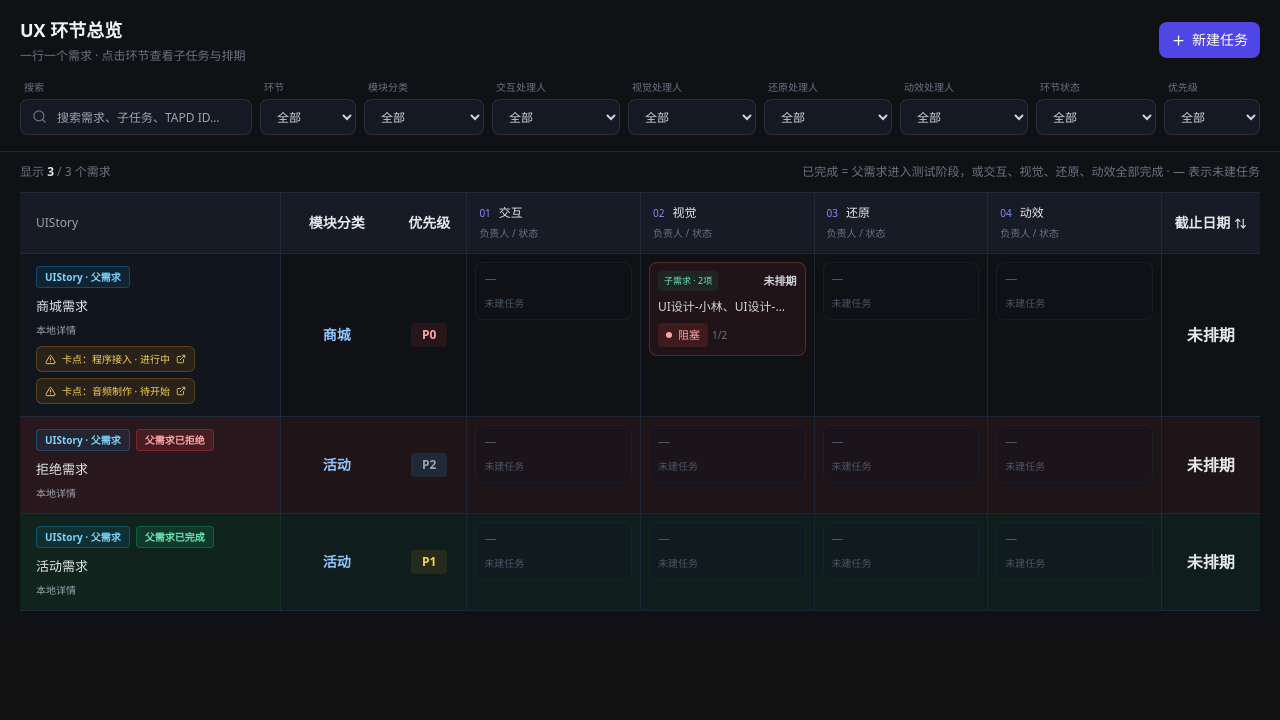
Test: UX stage table › searches child titles and resets filters
Type "初稿" into the field named "搜索需求" at (136, 117), box [20, 99, 252, 135]
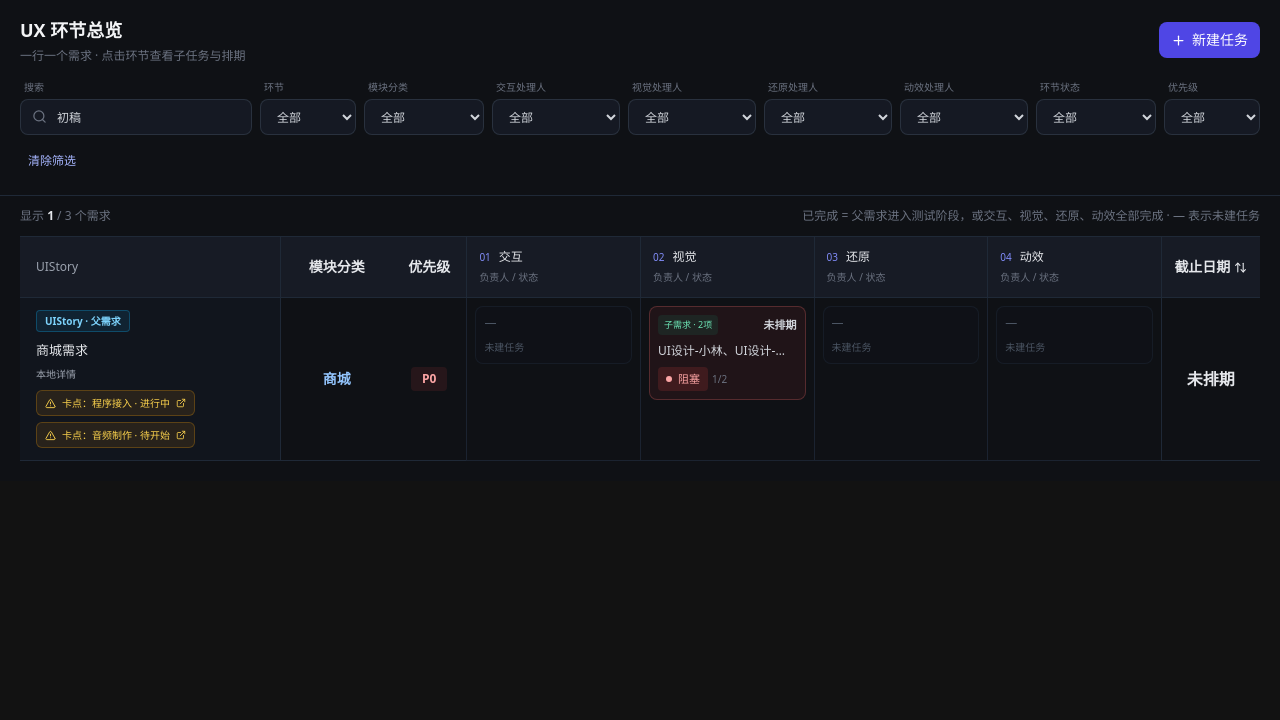
Now the button "活动需求" is gone
Click the button "清除筛选" at (52, 161), box [20, 143, 84, 179]
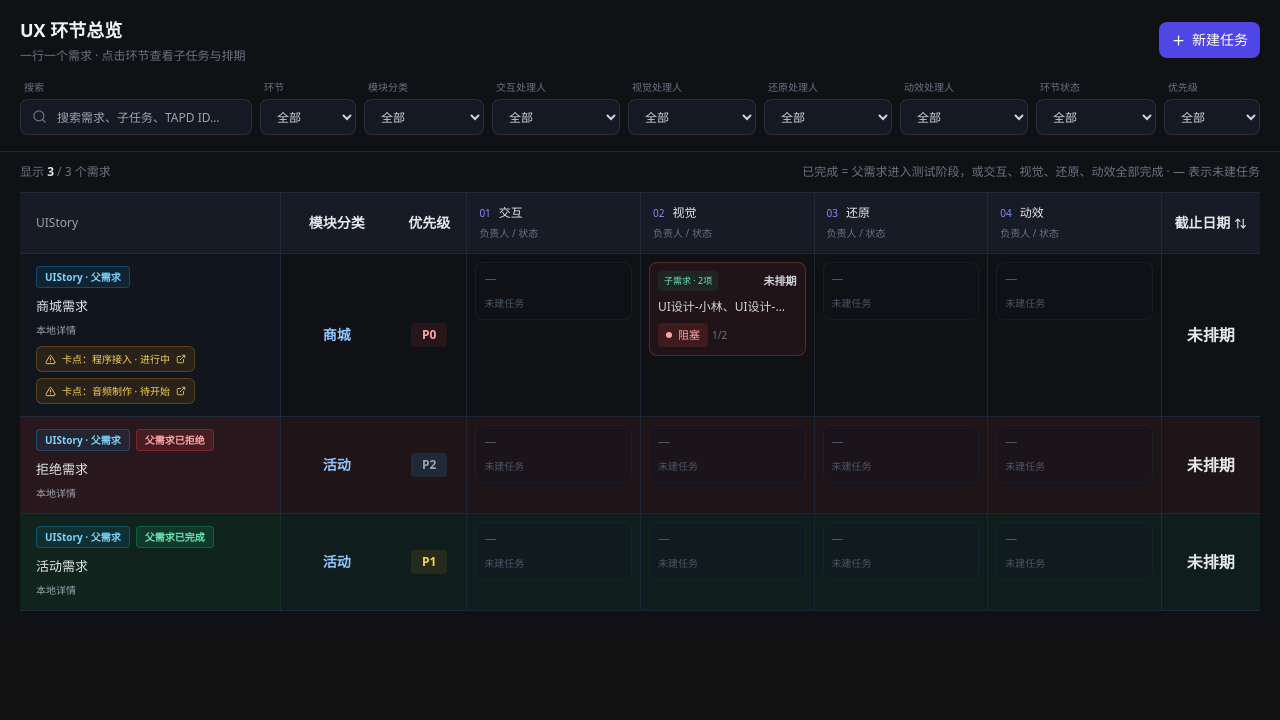
Now the button "活动需求" is shown, box [36, 556, 88, 576]
